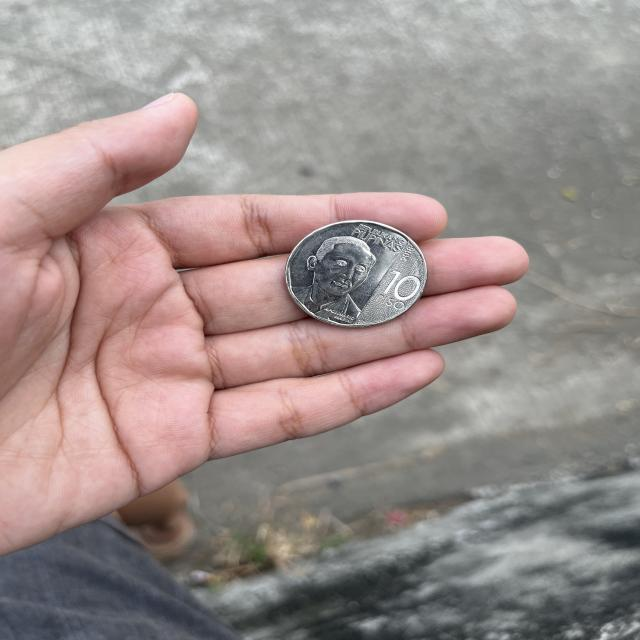10_New_Front: (368, 265, 418, 320)
